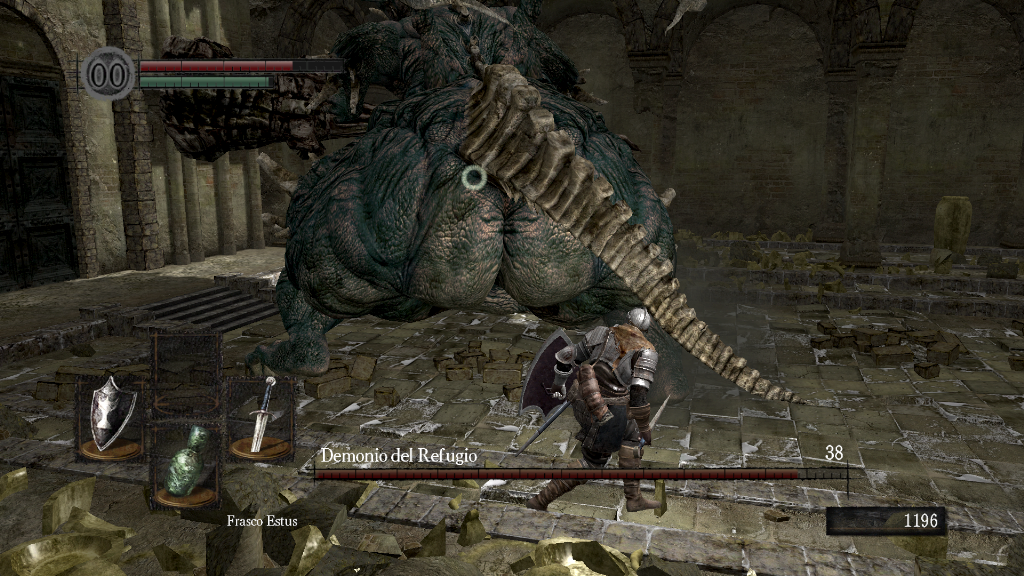asylumDemon: (140, 2, 812, 407)
bossHP: (314, 469, 847, 479)
health: (138, 58, 343, 71)
humanity: (80, 45, 136, 102)
player: (519, 304, 661, 518)
souls: (825, 506, 945, 536)
stamina: (138, 74, 274, 88)
